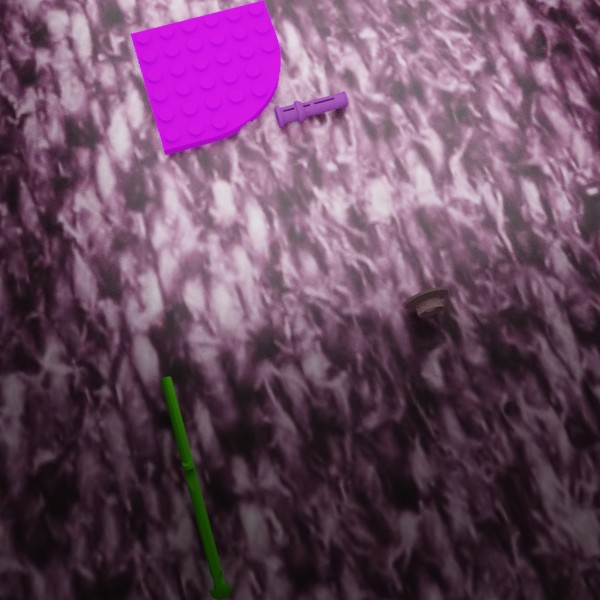lego: (130, 0, 280, 155), (160, 376, 231, 599), (274, 91, 348, 128), (402, 286, 448, 317)
